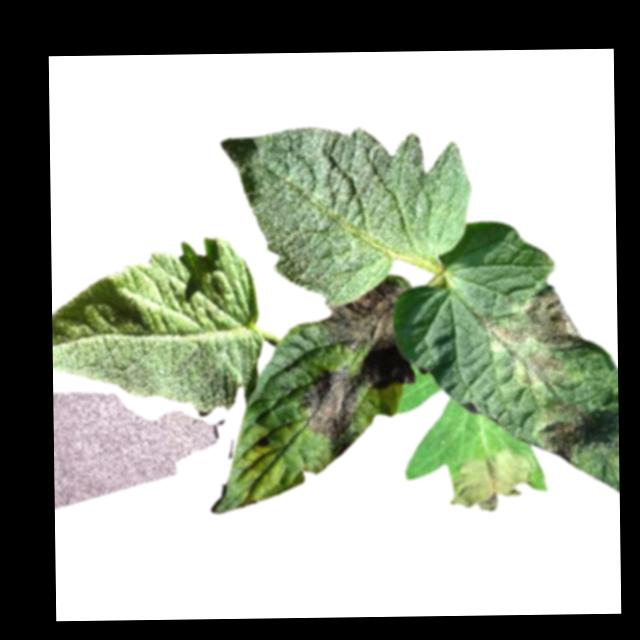Late_blight: (304, 347, 416, 439), (486, 284, 584, 349), (442, 448, 534, 514), (323, 279, 402, 348), (528, 401, 586, 464), (511, 348, 569, 389)
